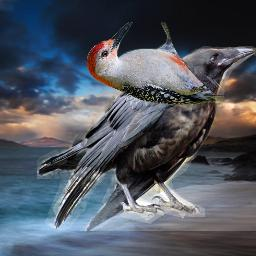Crow: (37, 46, 256, 231)
Woodpecker: (87, 22, 225, 105)
